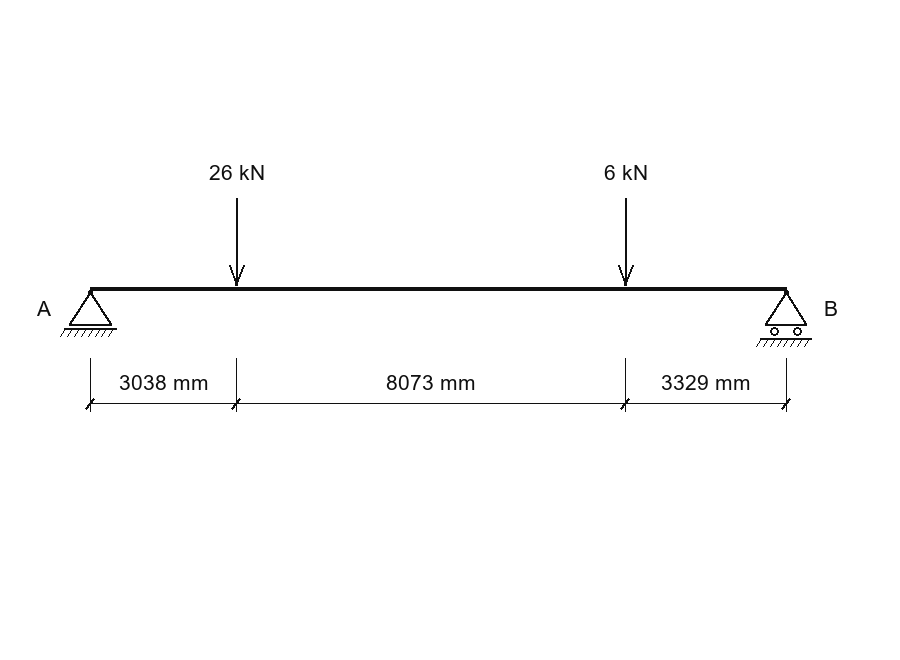pin_support: (60, 290, 117, 337)
point_load: (229, 198, 245, 286), (618, 198, 634, 286)
roller_support: (756, 290, 812, 347)
